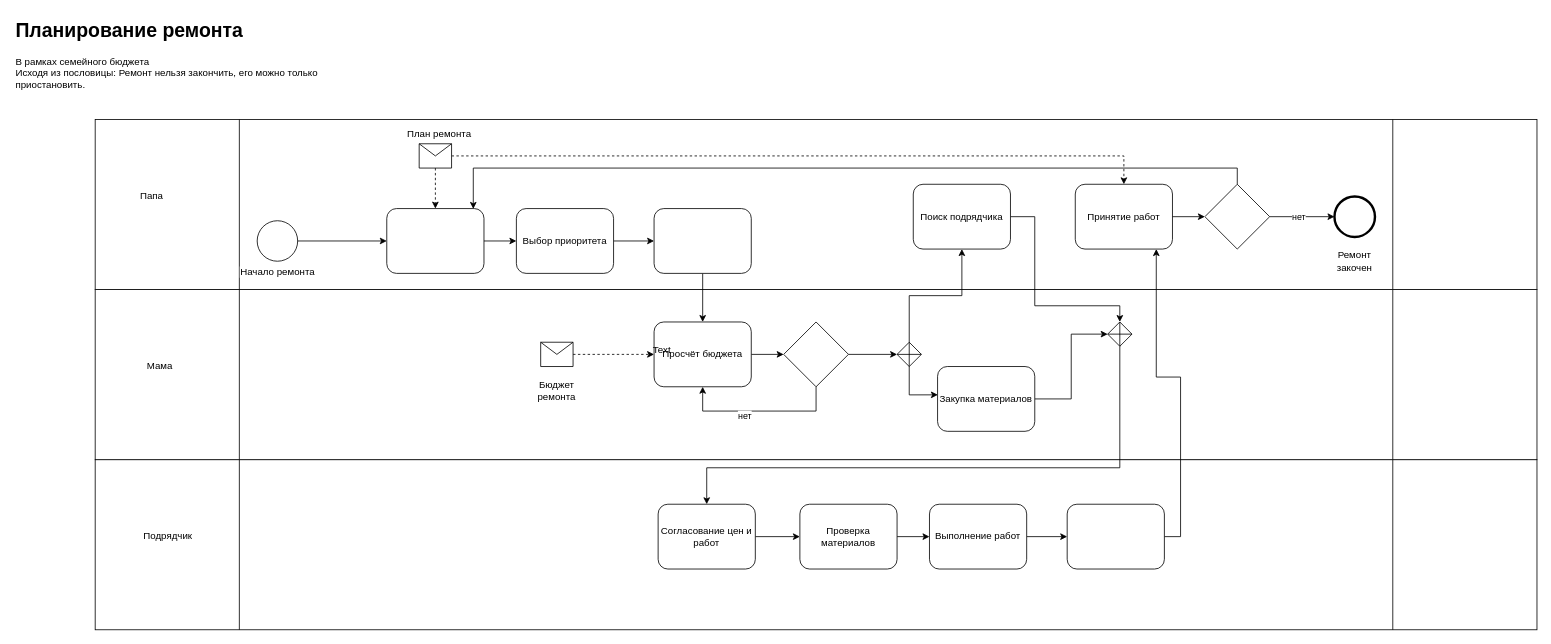
Image size: 1551x644. Some labels were removed from this diagram. Each missing label, with the centre of its shape:
деньги есть: point (815, 354)
еще остались деньги?: point (1237, 216)
Сдача работы: point (1115, 536)
Согласование с членами семьи: point (702, 240)
Составления списка желаний и дизайнерских идей: point (435, 240)
